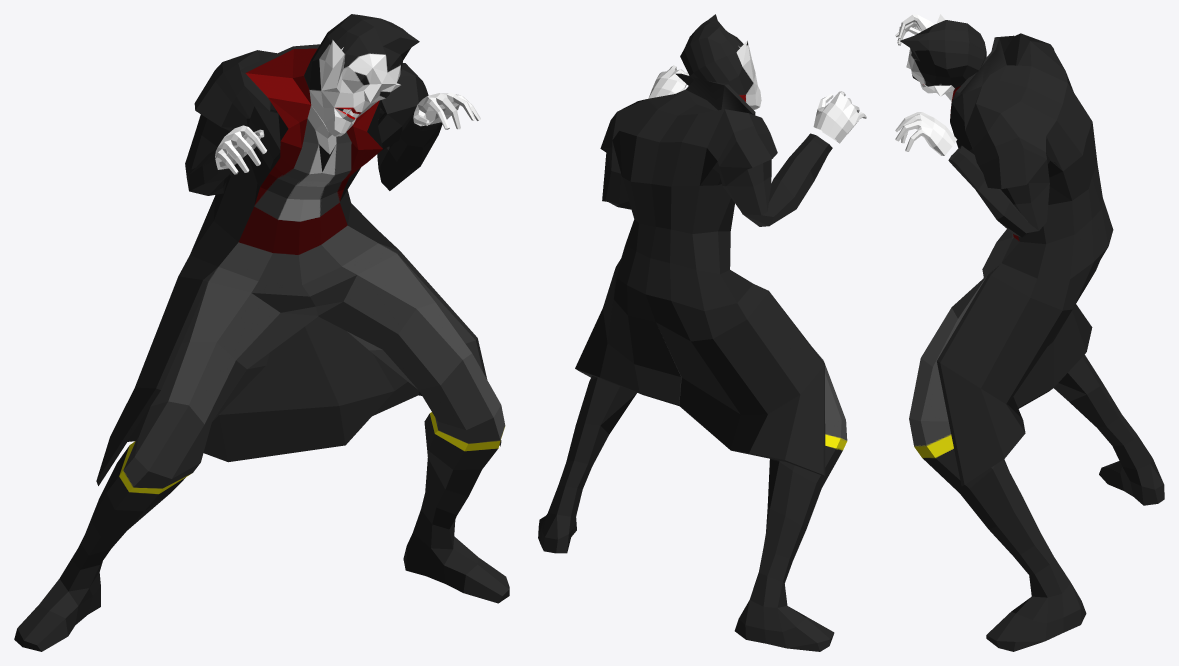
The model's file is VampireAttack(50).obj.
3 views of the same model, side by side, from view 1: azimuth 30°, elevation 25°; view 2: azimuth 150°, elevation 25°; view 3: azimuth 270°, elevation 25° (orthographic). The views are drawn at different scales.
Visible parts, largest first — view 1: Plane002; view 2: Plane002; view 3: Plane002.
Boxes of the visible parts, x1,y1,x2,y2 form: Plane002: [14, 14, 509, 651]; Plane002: [538, 14, 866, 651]; Plane002: [895, 14, 1164, 651].
Size of the model in its own units: 189 by 273 by 120.
